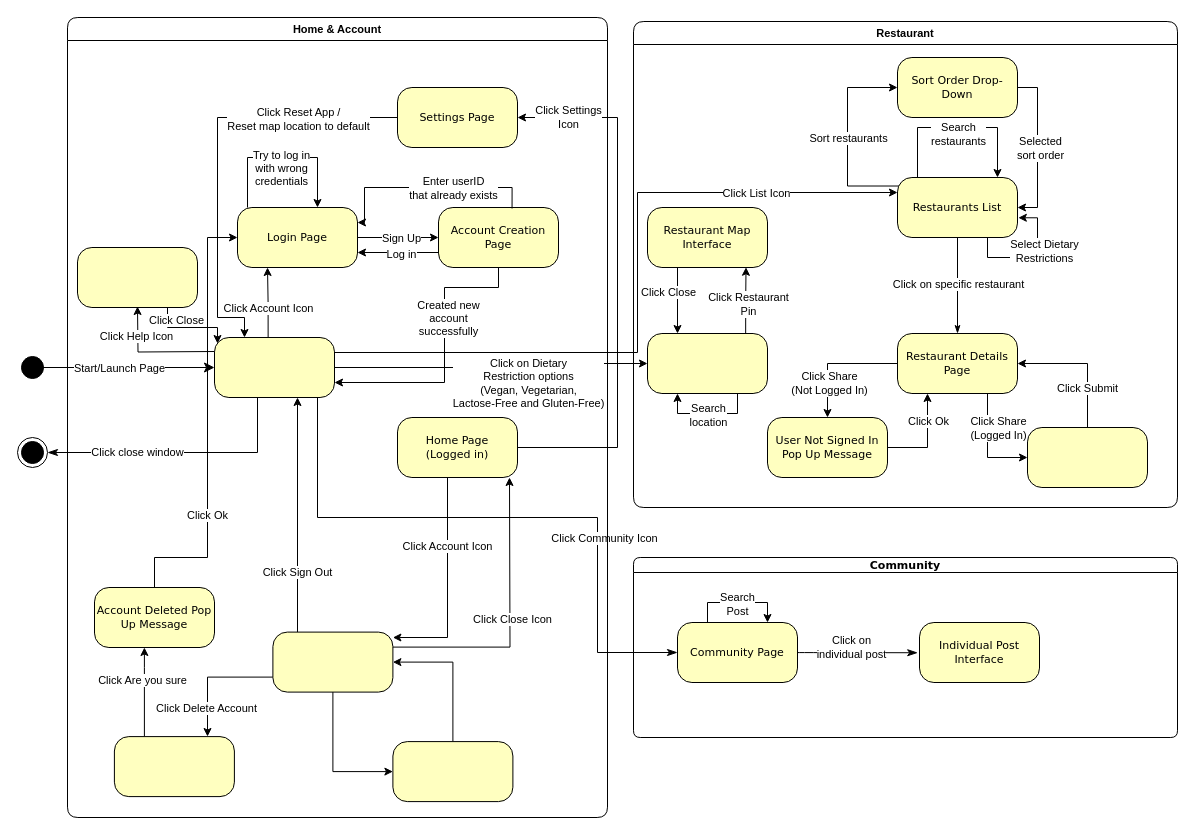
This 1195x835 diagram has some shape labels left out. Here are the shapes that lost their labels. From the top down, the centre of each, then its label:
At (x=137, y=277): "Help Page".
At (x=274, y=367): "Home Page (Map Page)".
At (x=707, y=363): "Map Interface".
At (x=1087, y=457): "Post Creation Page".
At (x=332, y=661): "Account Page".
At (x=173, y=766): "Delete Account Confirmation Message".
At (x=452, y=771): "Changes saved Confirmation Message".
